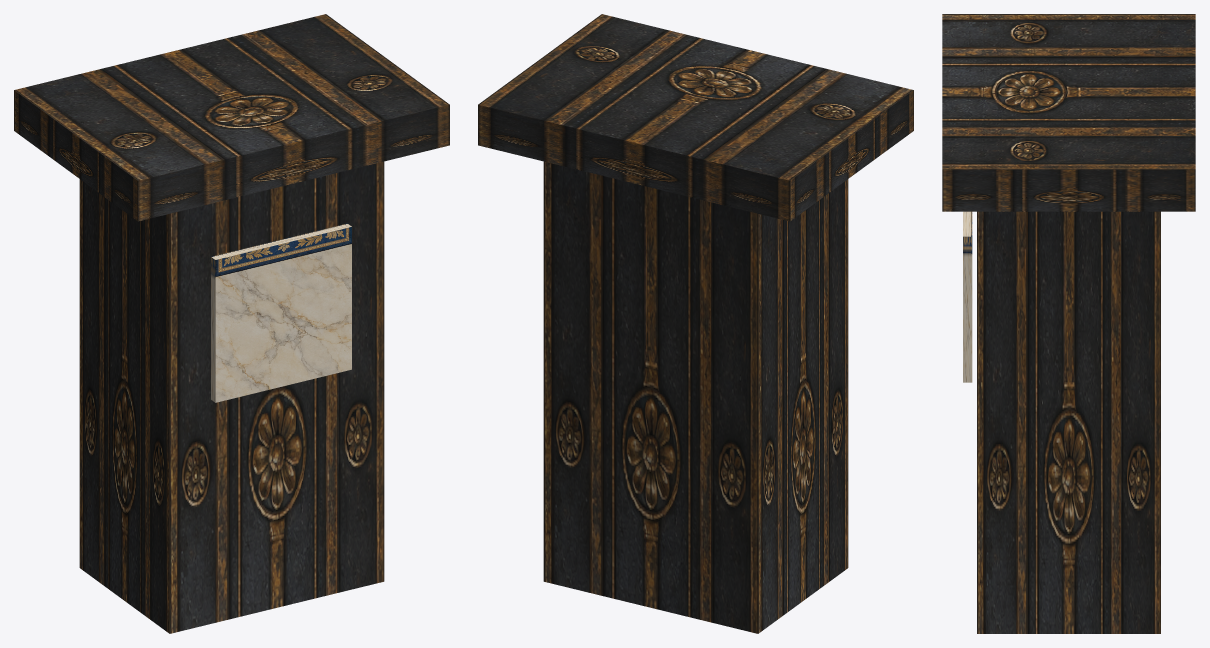
Rendered from lectern.gltf.
3 views of the same model, side by side, from view 1: azimuth 30°, elevation 25°; view 2: azimuth 150°, elevation 25°; view 3: azimuth 270°, elevation 25° (orthographic). The views are drawn at different scales.
Parts seen in each view (by area): view 1: kit:0:furniture:mahogany:, kit:0:furniture:blue:; view 2: kit:0:furniture:mahogany:; view 3: kit:0:furniture:mahogany:, kit:0:furniture:blue:.
Part boxes in pixels (box(x1,y1,x2,y2)): kit:0:furniture:mahogany:: box(14, 14, 449, 633); kit:0:furniture:blue:: box(211, 223, 351, 402); kit:0:furniture:mahogany:: box(478, 14, 913, 633); kit:0:furniture:mahogany:: box(942, 14, 1195, 633); kit:0:furniture:blue:: box(963, 211, 972, 382).
Bounding box in the file's own units: 0.8 × 1.17 × 0.55.
Materials: 2 (2 with a texture image).
